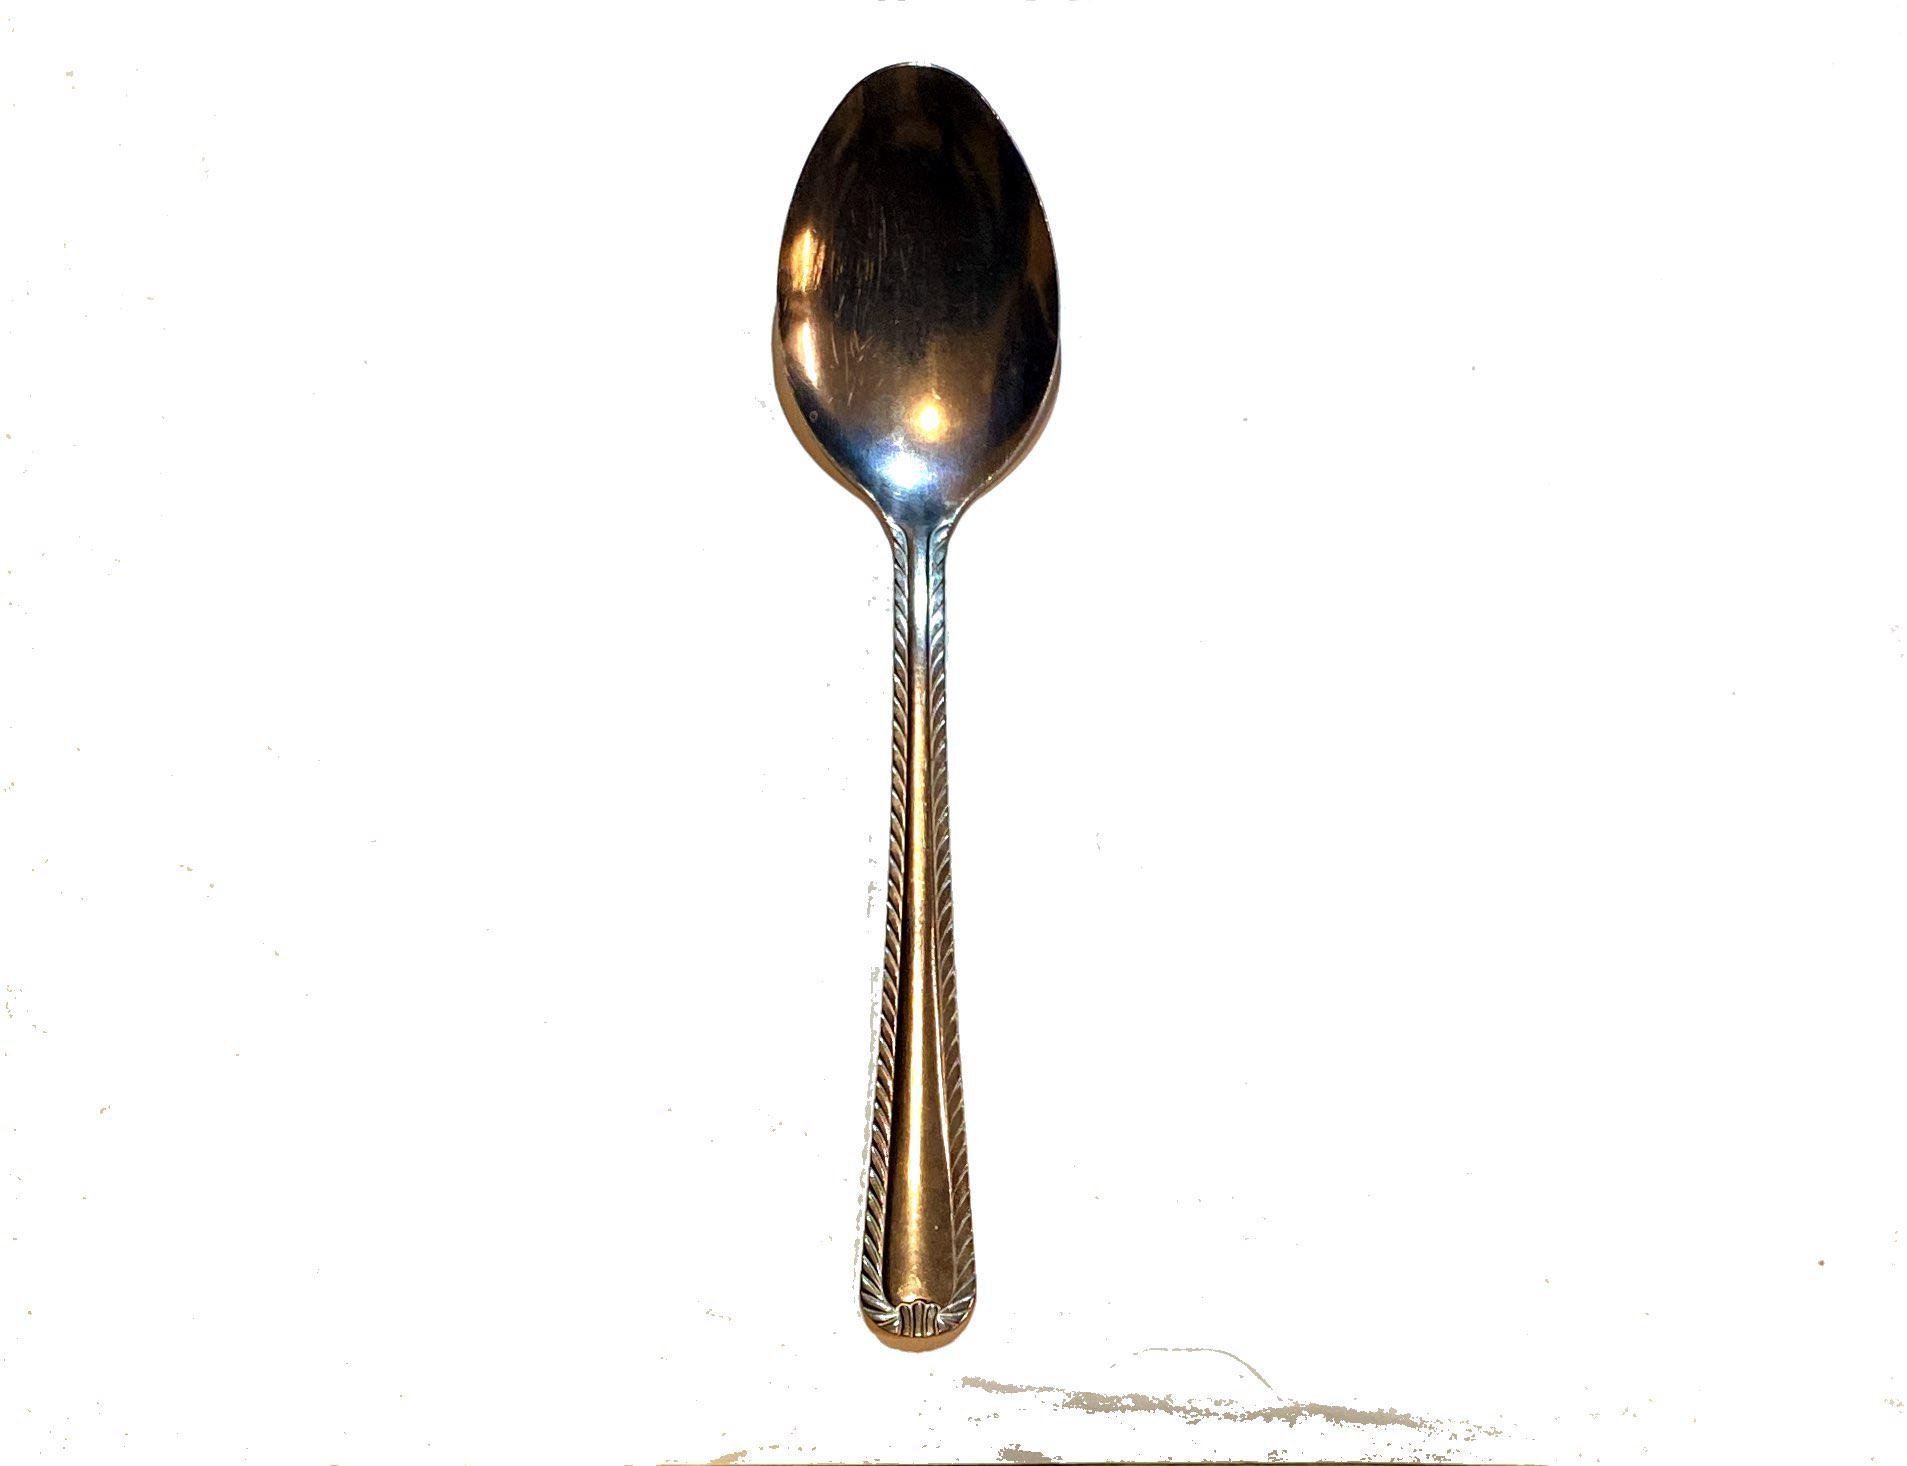Spoon: (736, 32, 1145, 1401)
